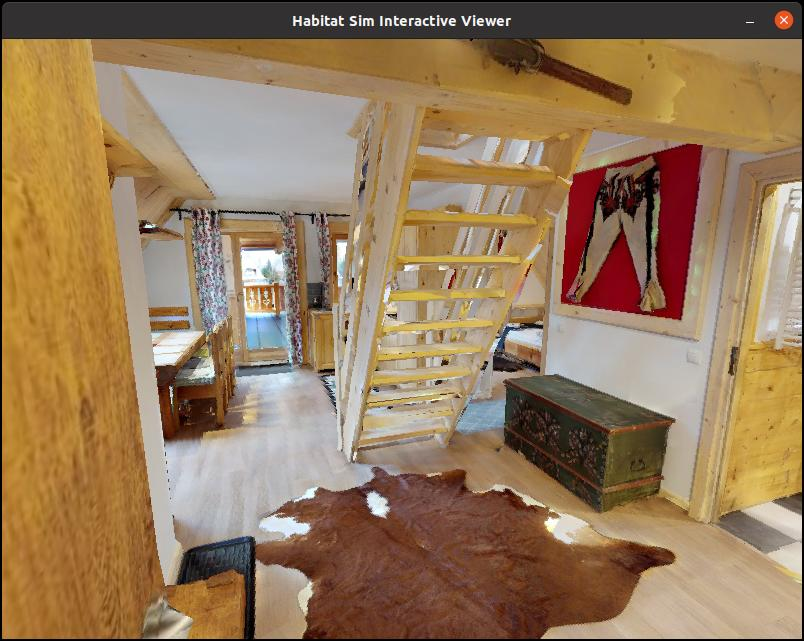door-frame: (699, 151, 804, 542)
stairs: (335, 117, 506, 458)
